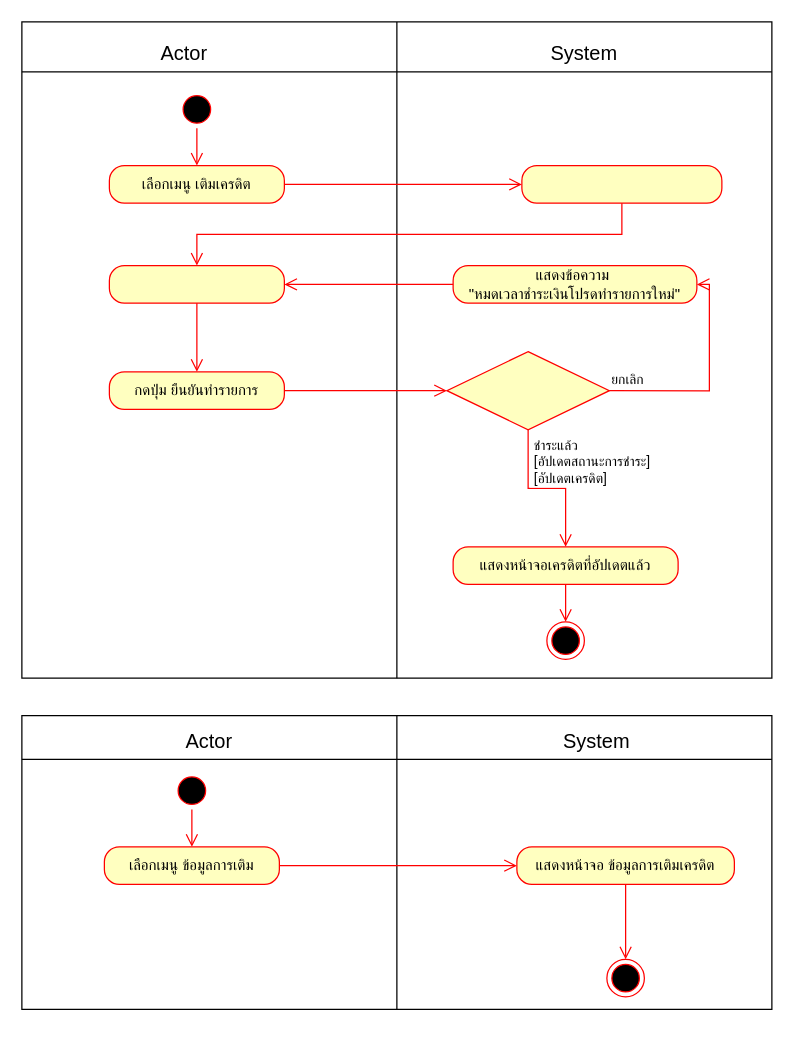
Image size: 795x1038. Some labels were removed from this diagram. Here are the shapes that lost their labels. From the top down, the box of each, then its label:
(521, 164, 722, 203): แสดงหน้าจอ เติมเครดิต
(108, 264, 284, 303): กรอกจำนวนที่ต้องการเติม
(446, 350, 609, 430): รอการชำระเงิน
